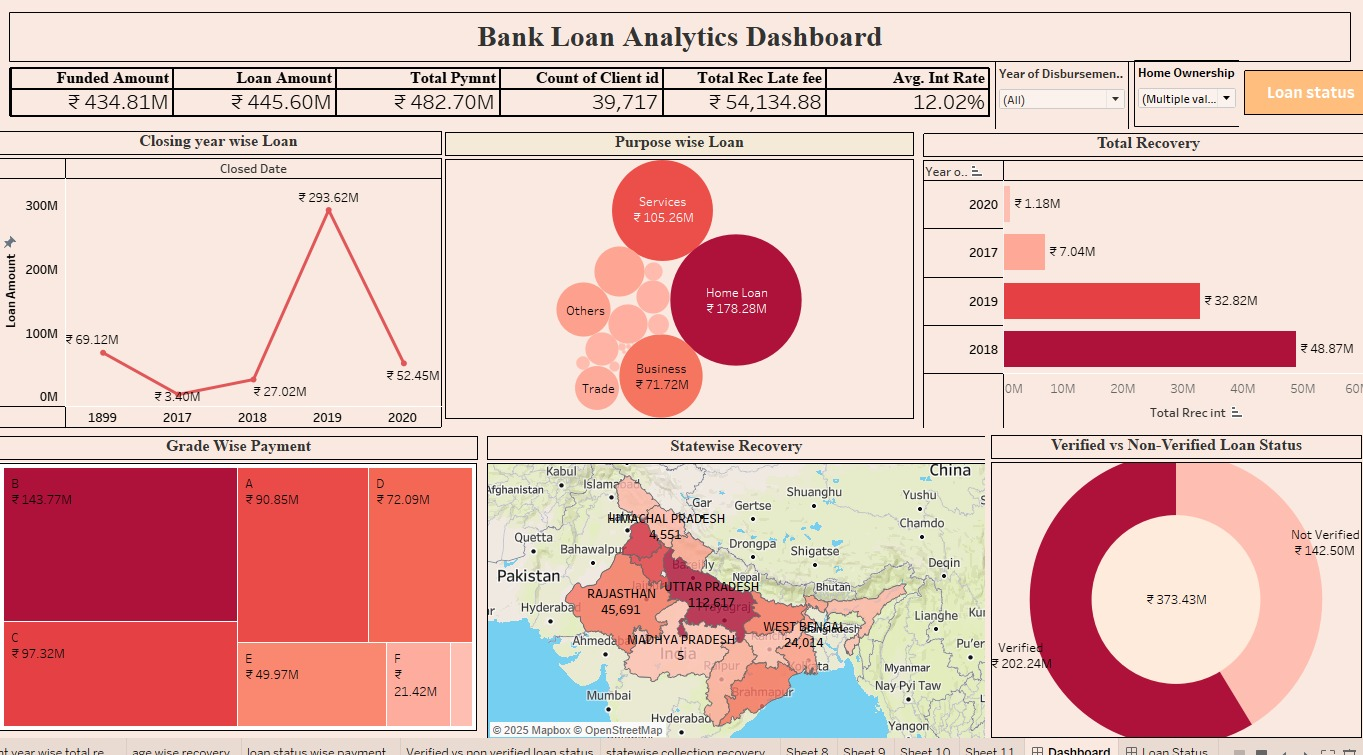

What the dashboard file says about the page in this screenshot:
{"tool":"tableau","page":{"name":"Main Dashboard","canvas":[1000,1000],"units":"permille","ordinal":5},"visuals":[{"type":"title","box":[4.8,10,990.3,96.1]},{"type":"image","param":"Image/[number redacted].jpg","box":[7.2,12.9,61.6,77.6]},{"type":"image","param":"Image/pngimg.com - piggy_bank_PNG52.png","box":[933.6,16,56.7,72.2]},{"type":"image","param":"Image/web-icon-logo-A6B586D114-seeklogo.com.png","box":[654.2,18.3,81.5,68.7]},{"type":"worksheet","title":"Card 4","mark":"Automatic","box":[387,115.4,139.8,95]},{"type":"worksheet","title":"Card 1","mark":"Automatic","box":[4.4,116.6,114.9,97.4]},{"type":"worksheet","title":"Card 2","mark":"Automatic","box":[127.3,116.6,123.6,96.2]},{"type":"worksheet","title":"Card 3","mark":"Automatic","box":[259.6,116.6,118.6,96.2]},{"type":"filter","title":"KPI 1","param":"[federated.1k56wus0ylsigh151kcn31l94zhr].[none:Purpose:nk]","box":[767.1,116.6,102.5,92.5]},{"type":"filter","title":"KPI 2","param":"[federated.1k56wus0ylsigh151kcn31l94zhr].[none:Grade:nk]","box":[653.4,117.8,100.6,91.4]},{"type":"parameter","param":"[Parameters].[Parameter 1]","box":[883.9,117.8,106.8,88.9]},{"type":"filter","title":"KPI 1","param":"[federated.1k56wus0ylsigh151kcn31l94zhr].[none:Loan_Status:nk]","box":[539.1,119,98.8,91.4]},{"type":"worksheet","title":"KPI 1","mark":"Bar","rows":["Loan_Amnt"],"cols":["Issue_D"],"box":[4.8,222.2,333.1,327.6]},{"type":"dashboard-object","box":[7.9,223.4,20.5,36.7]},{"type":"dashboard-object","box":[348.8,223.4,26.6,36.7]},{"type":"worksheet","title":"KPI 2","mark":"Bar","rows":["Revol_Bal"],"cols":["Grade","Sub_Grade"],"box":[346,223.6,645.9,326.9]},{"type":"dashboard-object","box":[10.8,226.8,31.3,36.4]},{"type":"worksheet","title":"KPI 3","mark":"Pie","rows":["Calculation_814025687453990912","Calculation_814025687453990912"],"box":[345.8,560.1,240.8,433]},{"type":"worksheet","title":"KPI 5","mark":"Automatic","box":[590.8,560.1,400.7,430.7]},{"type":"dashboard-object","box":[595.6,562.4,17.5,32.1]},{"type":"worksheet","title":"KPI 4","mark":"Automatic","rows":["Last_Credit_Pull_D","Loan_Status"],"cols":["Addr_State"],"box":[7.2,563.6,328.9,428.4]},{"type":"dashboard-object","box":[14.5,573.9,22.3,36.7]},{"type":"dashboard-object","box":[342.8,589.9,24.7,30.9]}]}

Visuals, with their boxes on the dashboard's canvas, which has no fixed pixel size, in thousandths of its width and height (x1, y1, x2, y2). These are canvas units, not pixel positions in the 1363x755 screenshot, which may show the page scaled, cropped or inside an application window:
title: detection(5, 10, 995, 106)
image: detection(7, 13, 69, 90)
image: detection(934, 16, 990, 88)
image: detection(654, 18, 736, 87)
"Card 4" worksheet: detection(387, 115, 527, 210)
"Card 1" worksheet: detection(4, 117, 119, 214)
"Card 2" worksheet: detection(127, 117, 251, 213)
"Card 3" worksheet: detection(260, 117, 378, 213)
"KPI 1" filter: detection(767, 117, 870, 209)
"KPI 2" filter: detection(653, 118, 754, 209)
parameter: detection(884, 118, 991, 207)
"KPI 1" filter: detection(539, 119, 638, 210)
"KPI 1" worksheet (Bar marks): detection(5, 222, 338, 550)
dashboard-object: detection(8, 223, 28, 260)
dashboard-object: detection(349, 223, 375, 260)
"KPI 2" worksheet (Bar marks): detection(346, 224, 992, 550)
dashboard-object: detection(11, 227, 42, 263)
"KPI 3" worksheet (Pie marks): detection(346, 560, 587, 993)
"KPI 5" worksheet: detection(591, 560, 992, 991)
dashboard-object: detection(596, 562, 613, 594)
"KPI 4" worksheet: detection(7, 564, 336, 992)
dashboard-object: detection(14, 574, 37, 611)
dashboard-object: detection(343, 590, 368, 621)
